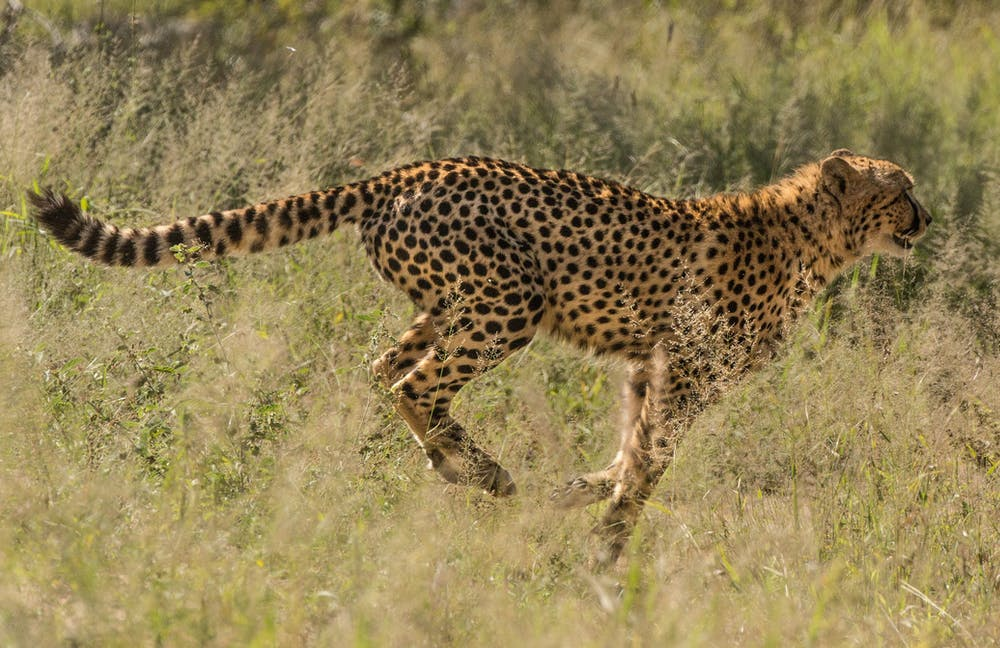cheetah: (787, 136, 940, 274)
